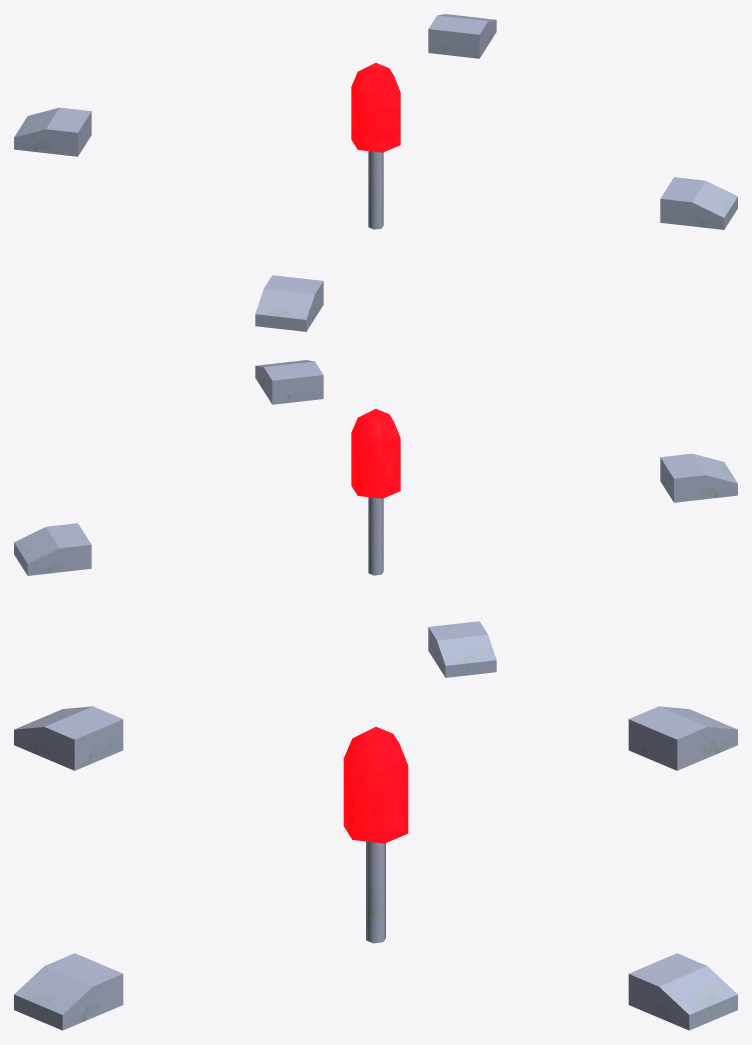
The model's file is windsock-light-cbj_LOD01.gltf.
3 views of the same model, one above another, from view 1: azimuth 30°, elevation 25°; view 2: azimuth 150°, elevation 25°; view 3: azimuth 270°, elevation 25° (orthographic). The views are drawn at different scales.
Parts seen in each view (by area): view 1: Cube.006; view 2: Cube.006; view 3: Cube.006.
Boxes of the visible parts, x1,y1,x2,y2 form: Cube.006: (14, 14, 737, 331); Cube.006: (14, 360, 737, 677); Cube.006: (14, 706, 737, 1030).
Size of what is drawn, in the model's own units: 2.53 by 0.8182 by 2.53.
